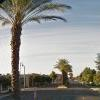Palm tree: (5, 0, 41, 85)
